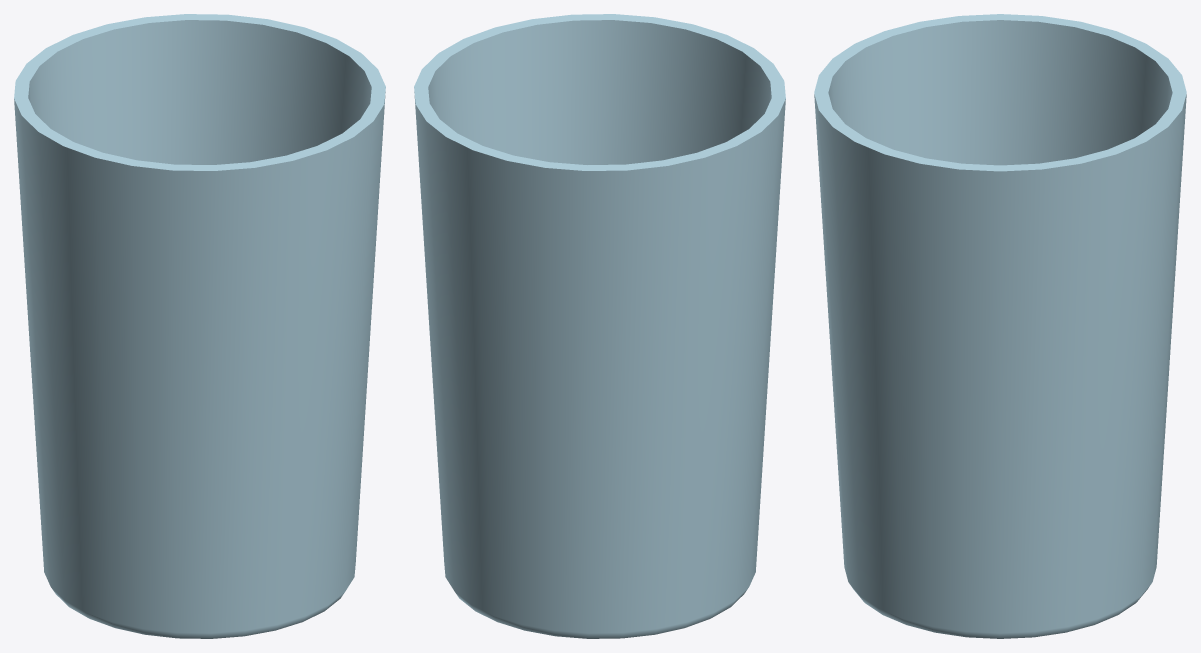
Rendered from drinking_glass.glb.
3 renders of one model, left to right at view 1: azimuth 30°, elevation 25°; view 2: azimuth 150°, elevation 25°; view 3: azimuth 270°, elevation 25°, orthographic.
Visible parts, largest first — view 1: drinking_glass; view 2: drinking_glass; view 3: drinking_glass.
Boxes of the visible parts, x1,y1,x2,y2 form: drinking_glass: (14, 14, 385, 638); drinking_glass: (414, 14, 785, 638); drinking_glass: (814, 14, 1186, 638).
Bounding box in the file's own units: 0.063 × 0.09 × 0.063.
